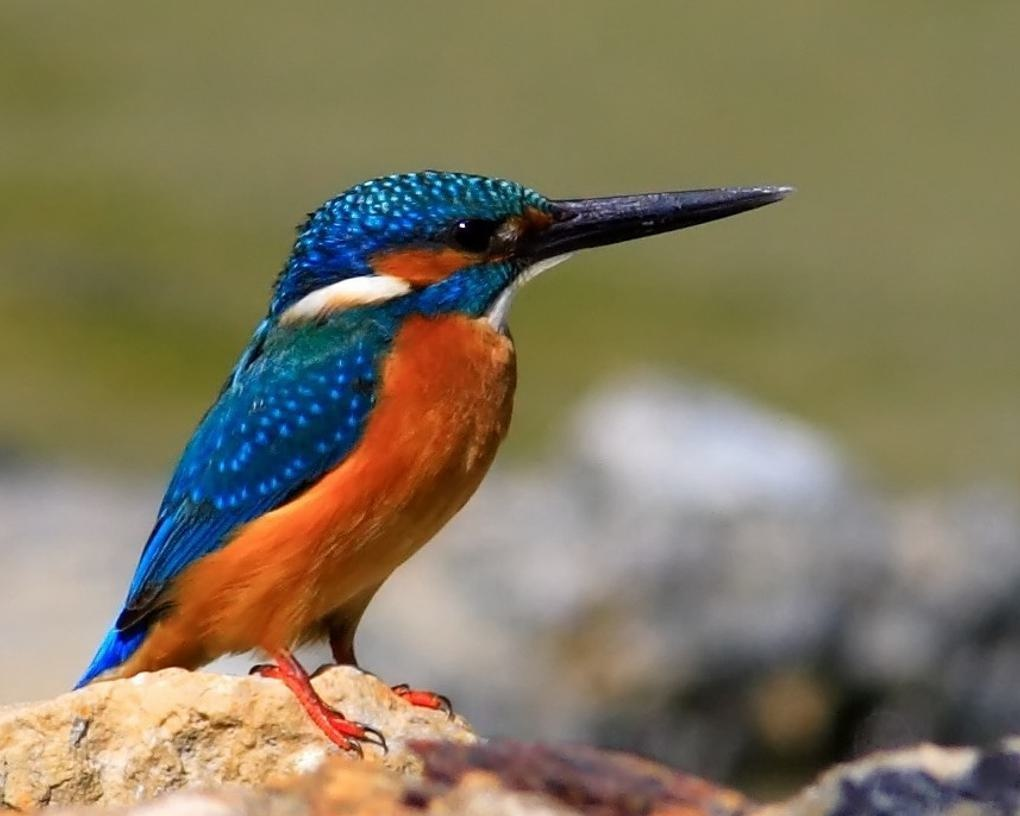kingfisher: (114, 144, 781, 723)
